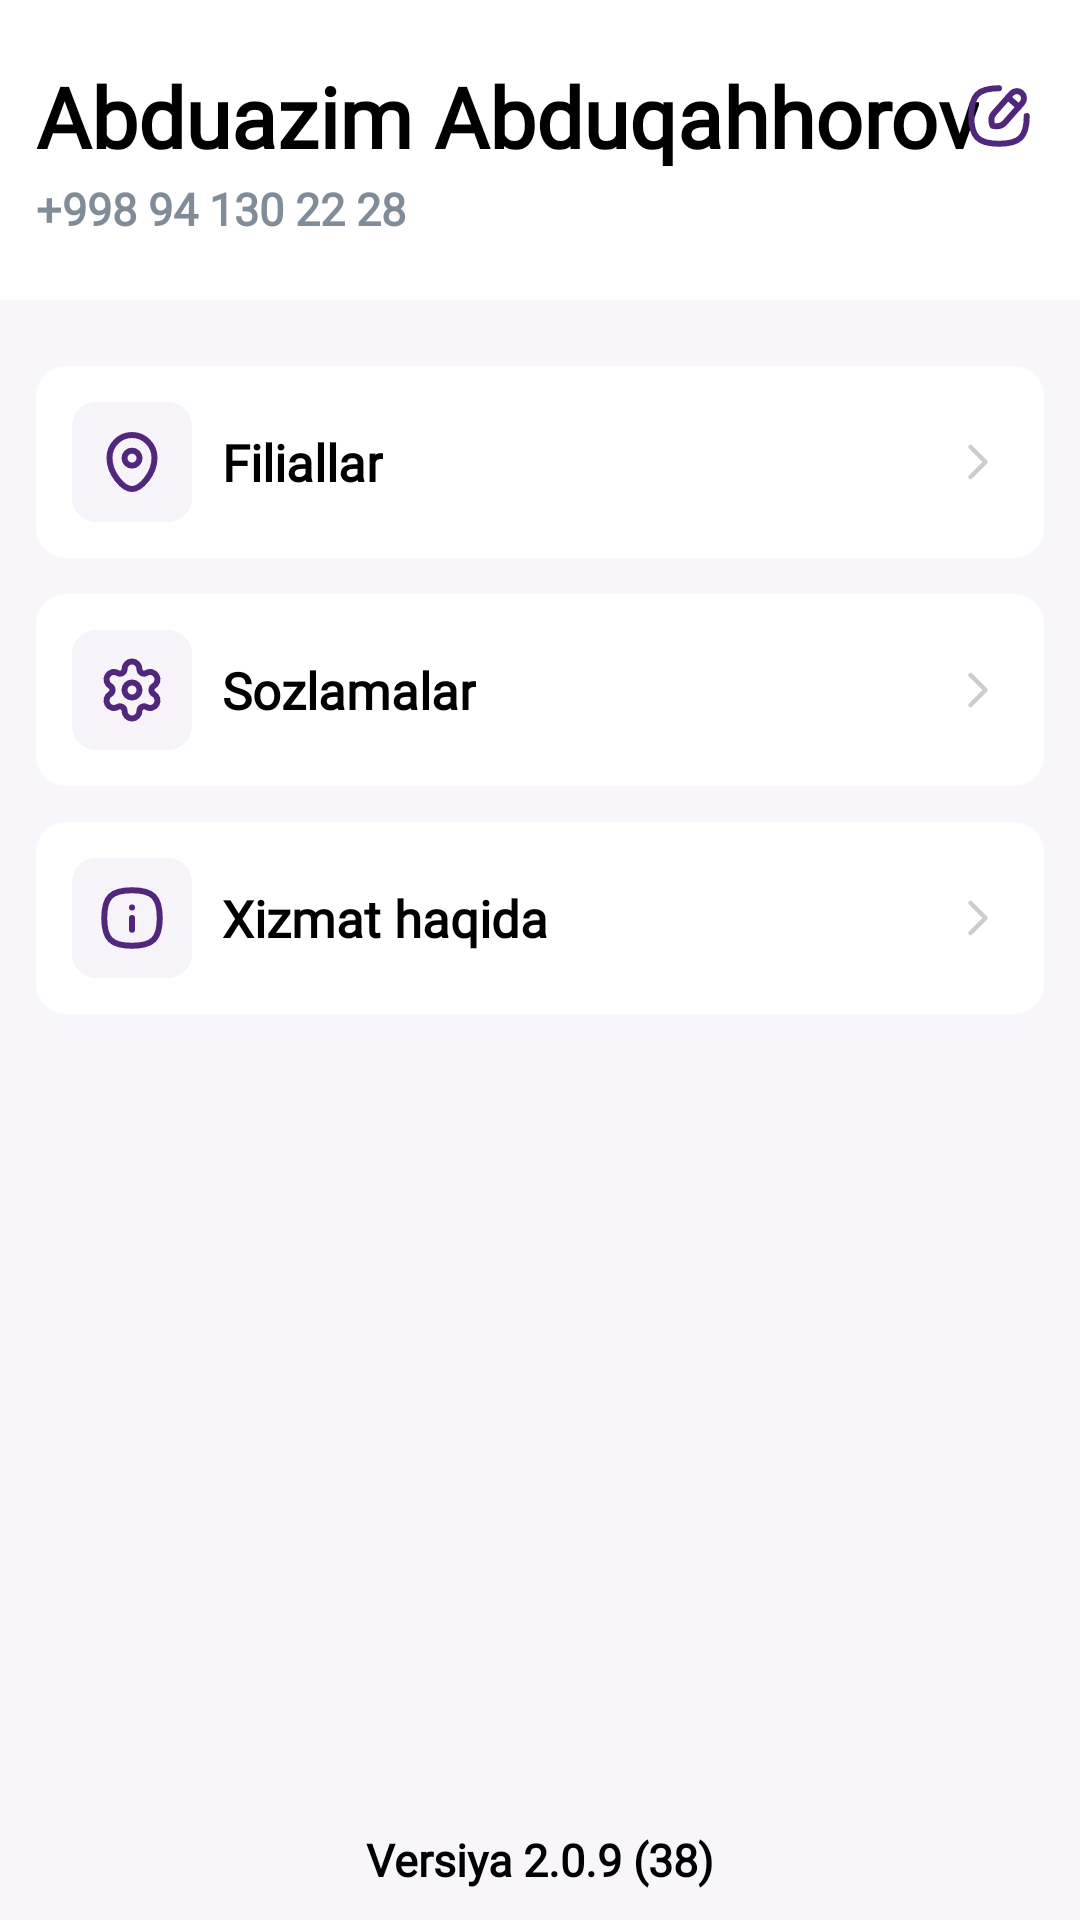

Where to tap for icons on this 1080px×1920px app screen, as (x,y):
edit: (996,117)
info: (132,918)
loc: (132,462)
next: (978,462), (978,690), (978,918)
set: (132,690)
